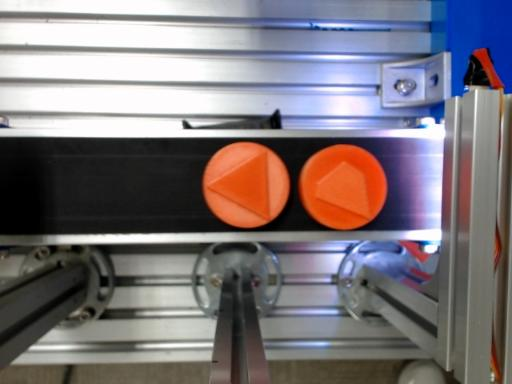Orange_Waper: (202, 142, 290, 227), (299, 145, 386, 229)
